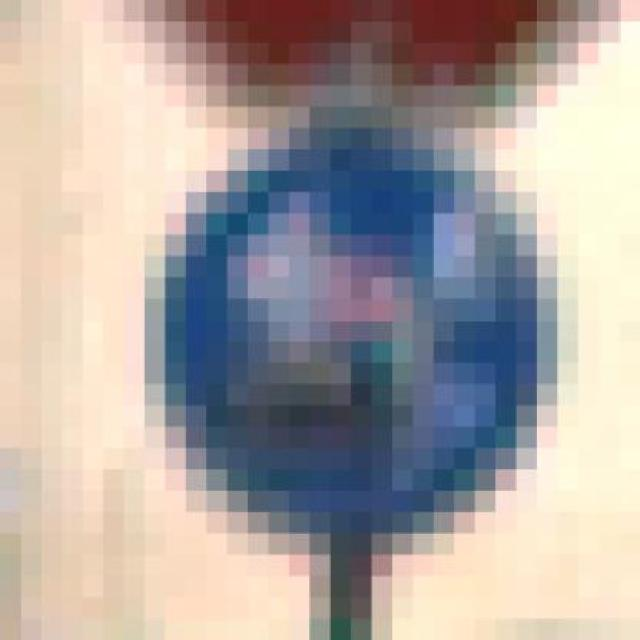Turn left ahead: (103, 107, 599, 576)
